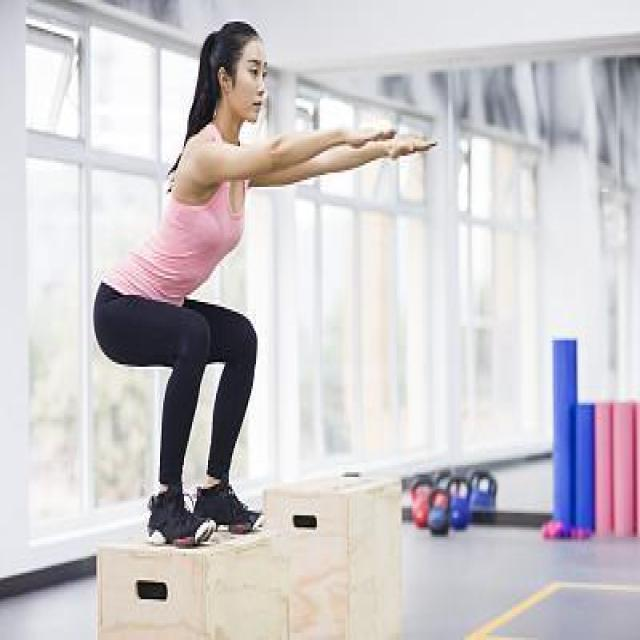sit: (83, 12, 306, 538)
